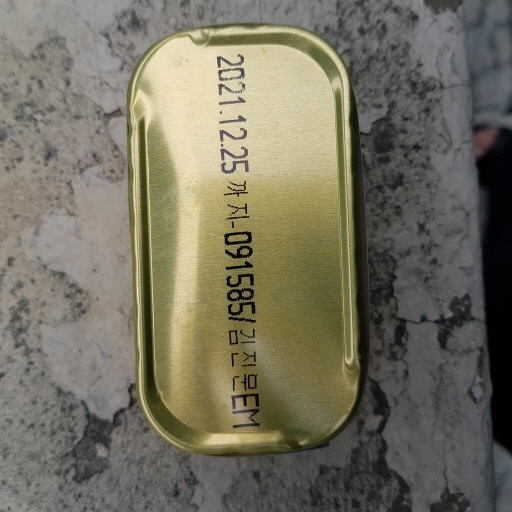Metal_2: (124, 24, 371, 454)
